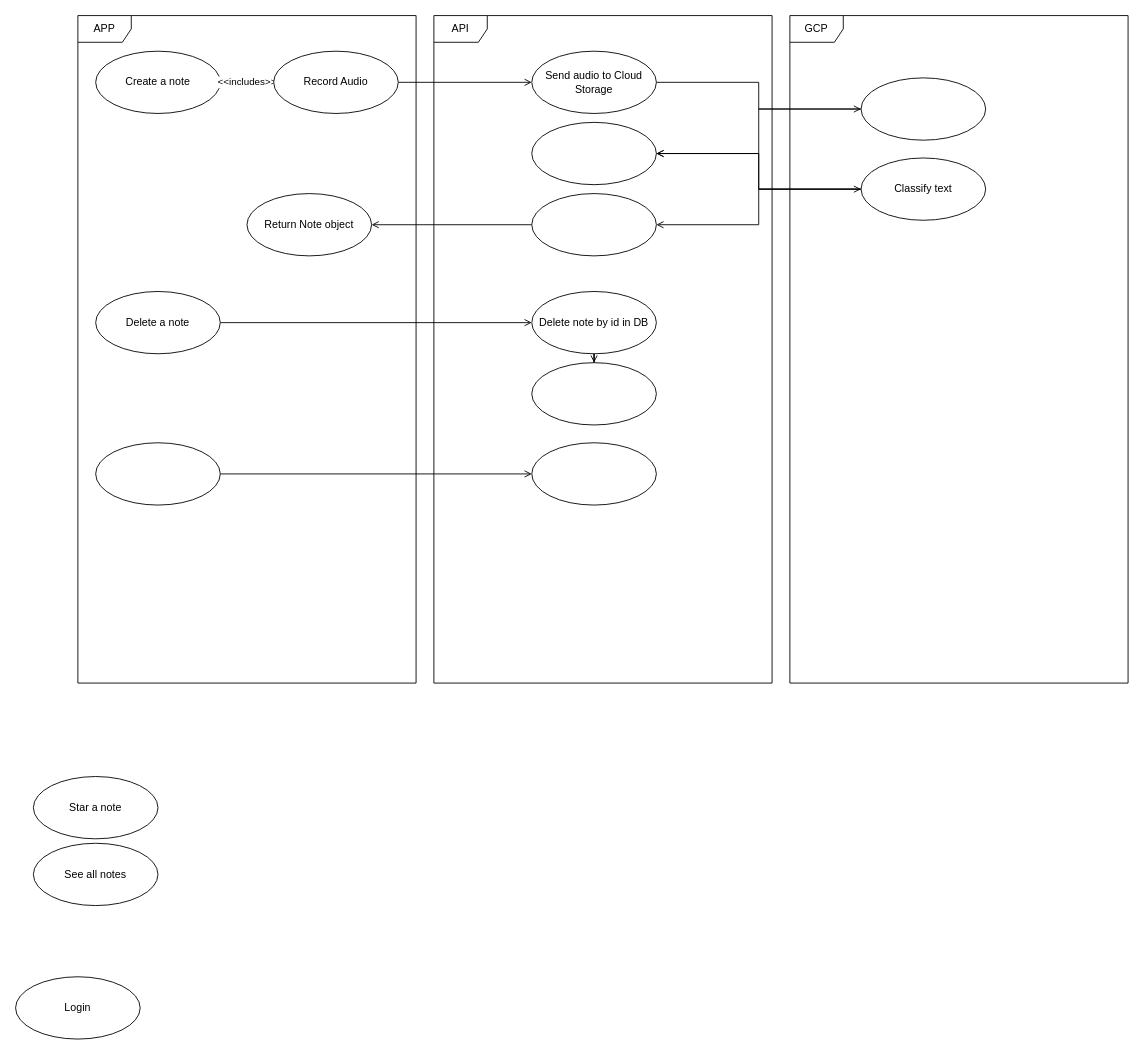
Some shapes in this 1144 by 1055 pixel diagram are drawn without their labels. Here are the shapes that lost their labels. From the top down, the centre of each, then its label:
the point at 923,108: Send Recording to SpeechClient()
the point at 593,153: Create to entry in DB w/ text
the point at 593,224: Update Note with classification
the point at 593,393: Remove audio from cloud storage
the point at 157,473: Label a note
the point at 593,473: Update Classification in DB
